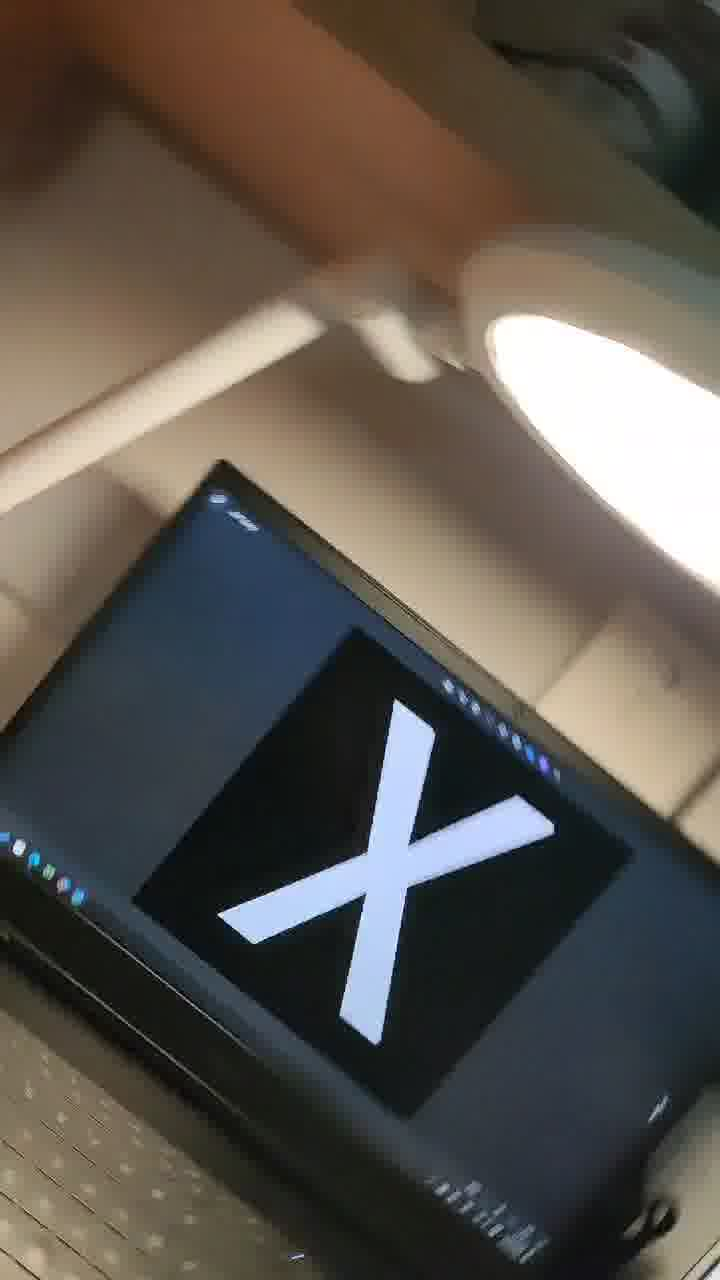X: (234, 649, 523, 1020)
